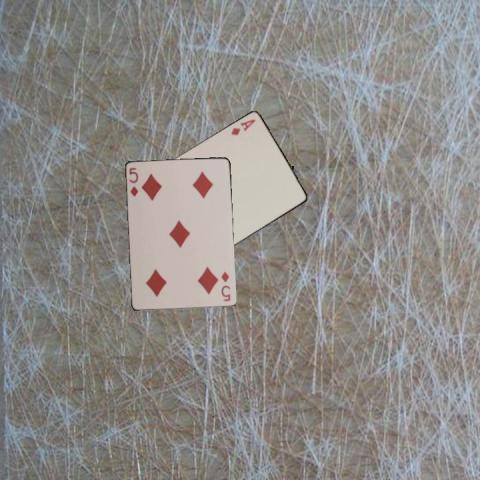5d: (127, 164, 140, 198), (219, 269, 232, 302)
Ad: (228, 116, 257, 137)
